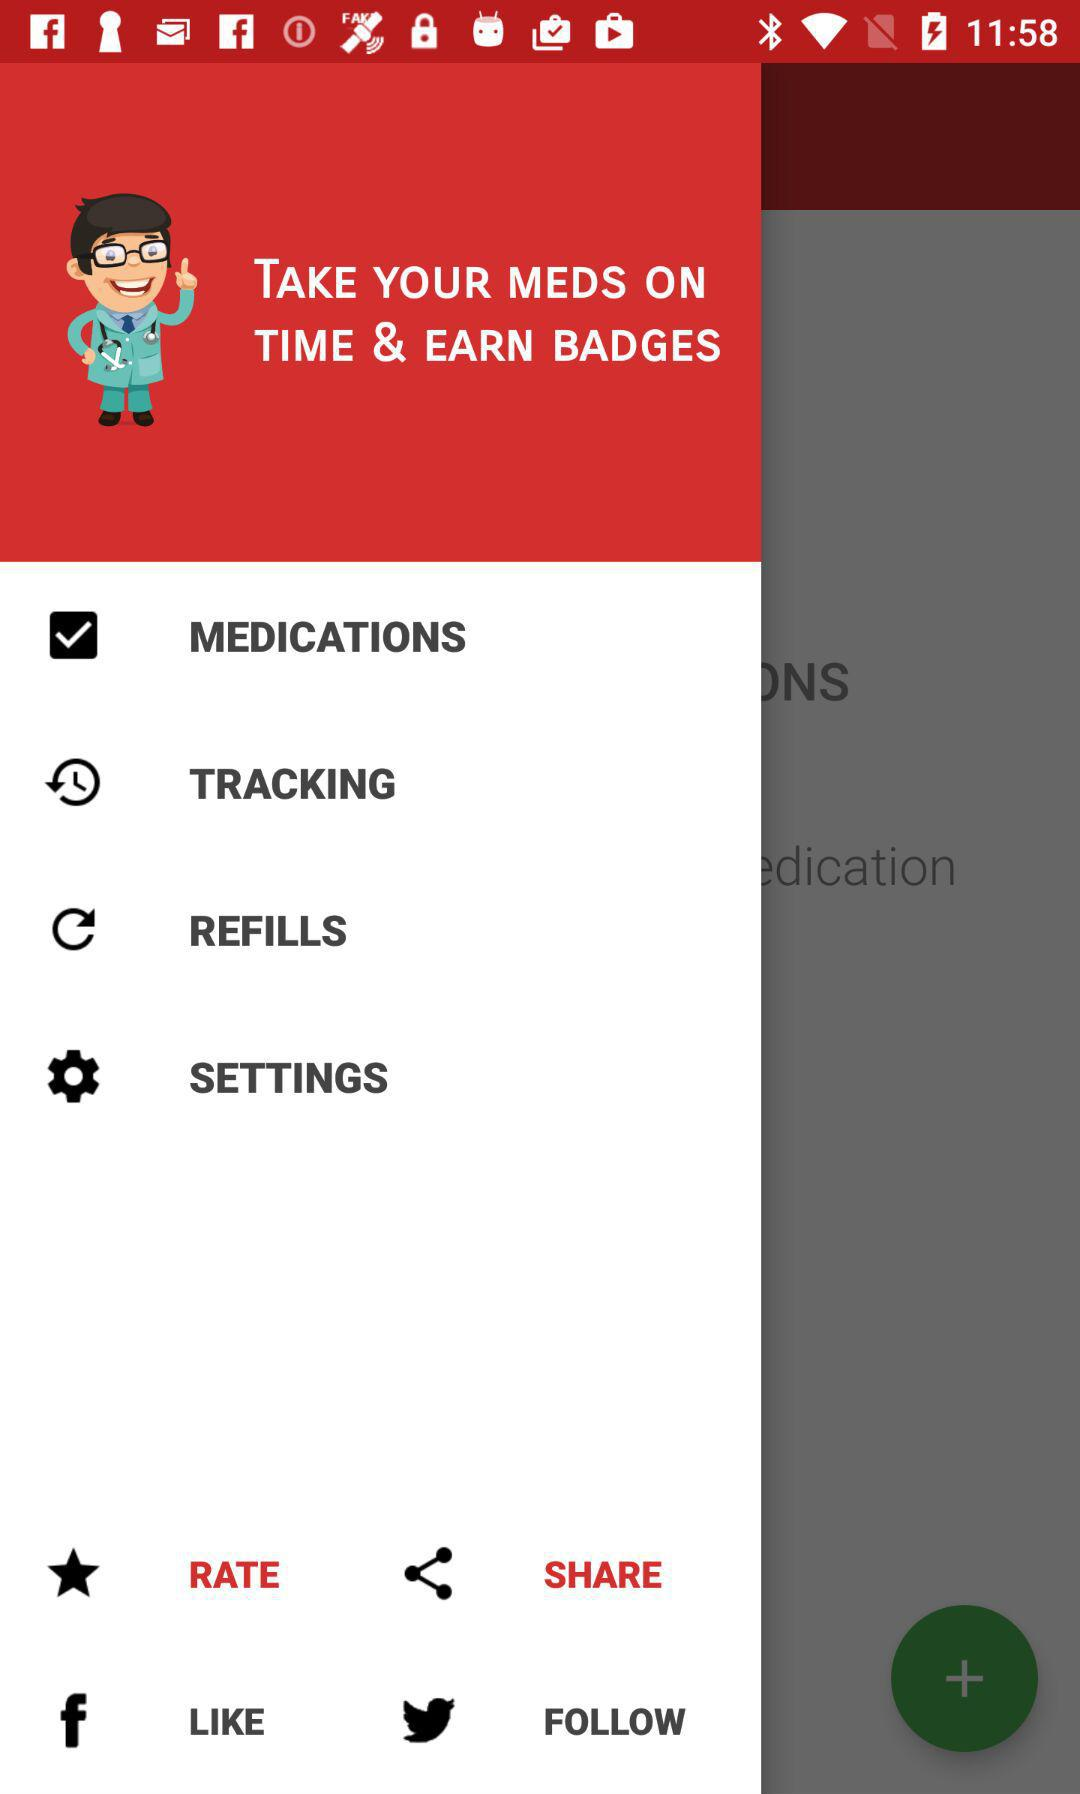CheckedTextView: (49, 610, 468, 660)
Drawer: (1, 64, 762, 1794)
Icon: (890, 1604, 1039, 1756), (47, 1049, 101, 1105), (44, 759, 102, 809), (46, 1547, 102, 1598), (404, 1545, 454, 1602), (402, 1697, 457, 1744), (53, 907, 97, 952), (60, 1691, 88, 1749)
Image: (67, 193, 200, 429)
Text: (252, 322, 723, 365), (252, 258, 706, 302), (190, 621, 468, 654), (190, 768, 397, 801), (190, 1062, 389, 1096), (191, 915, 348, 948), (544, 1707, 687, 1736), (544, 1559, 664, 1590), (190, 1559, 281, 1589), (190, 1707, 266, 1736)
UpperTaskBar: (1, 1, 1080, 64)
